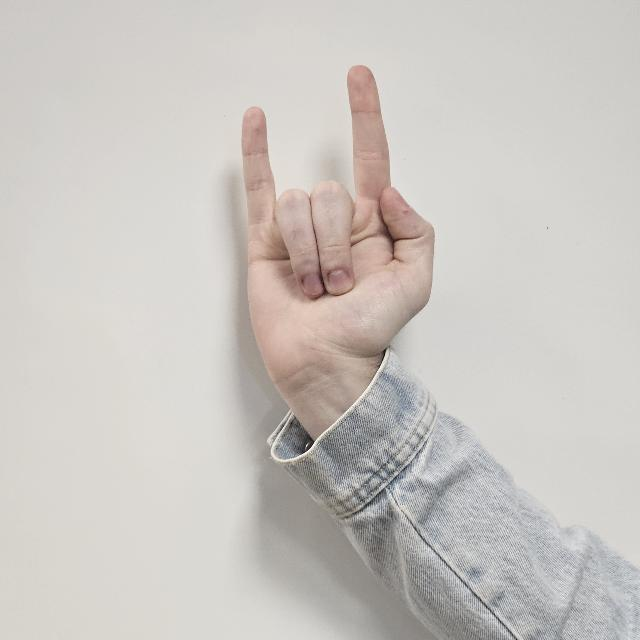L: (240, 57, 436, 383)
